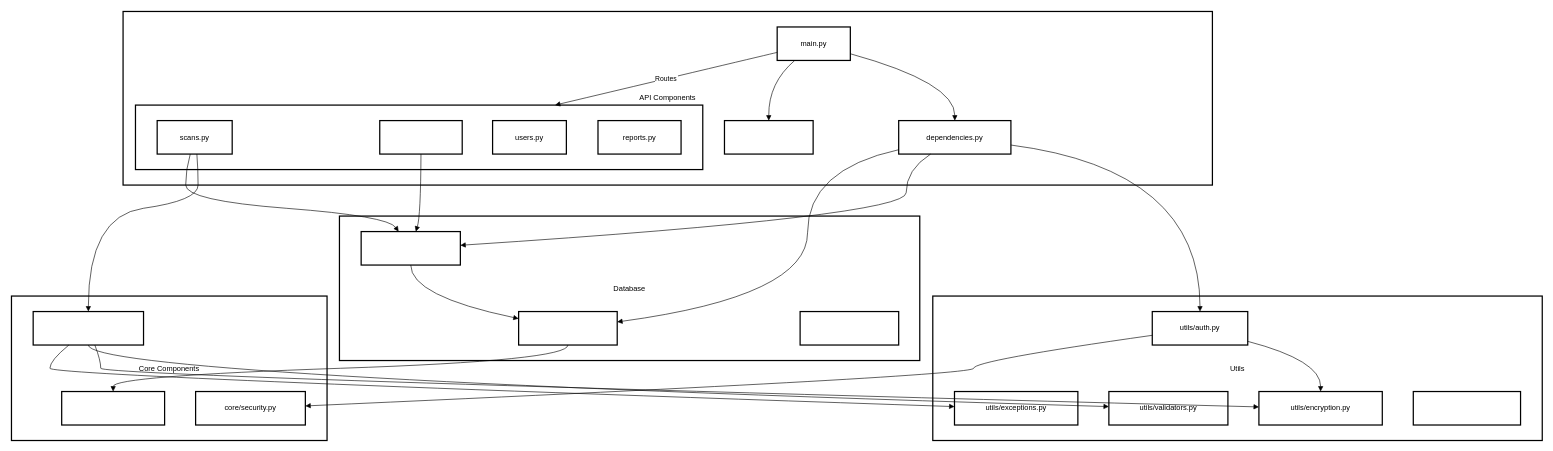
Image size: 1553x451. Some labels were removed from this diagram. The shapes that lost their labels are listed below. From the top down, each one's centre as x and y in pixels, then its label:
the point at 421,137: configs.py
the point at 768,137: schemas.py
the point at 410,248: db/models.py
the point at 88,328: scanner/core.py
the point at 568,328: db/session.py
the point at 849,328: db/init_db.py
the point at 113,408: core/config.py
the point at 1466,408: utils/logging.py
